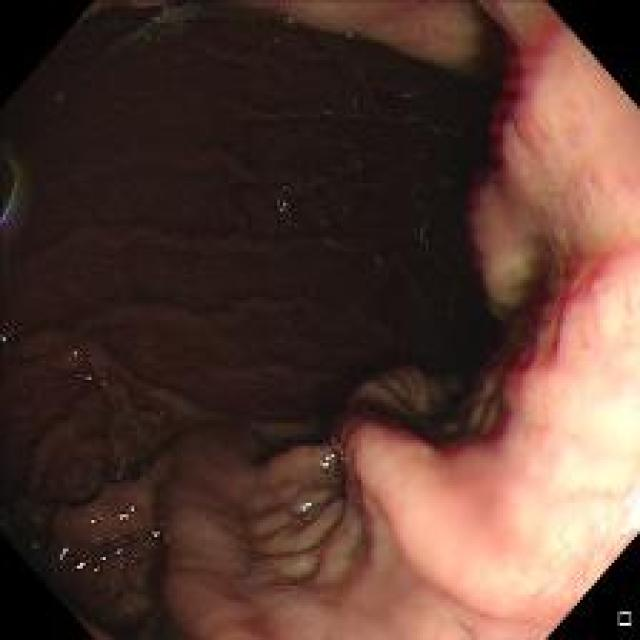blur: (319, 421, 635, 636)
bubbles: (425, 121, 446, 140), (272, 195, 290, 212), (318, 214, 332, 234), (346, 94, 361, 112), (401, 86, 418, 101), (320, 106, 335, 120)
color misalignment: (506, 245, 611, 421), (500, 19, 554, 146), (315, 442, 349, 474), (298, 496, 314, 512)
contrast: (11, 15, 566, 488)
saturation: (511, 266, 638, 602)
specularity: (52, 509, 170, 571)
